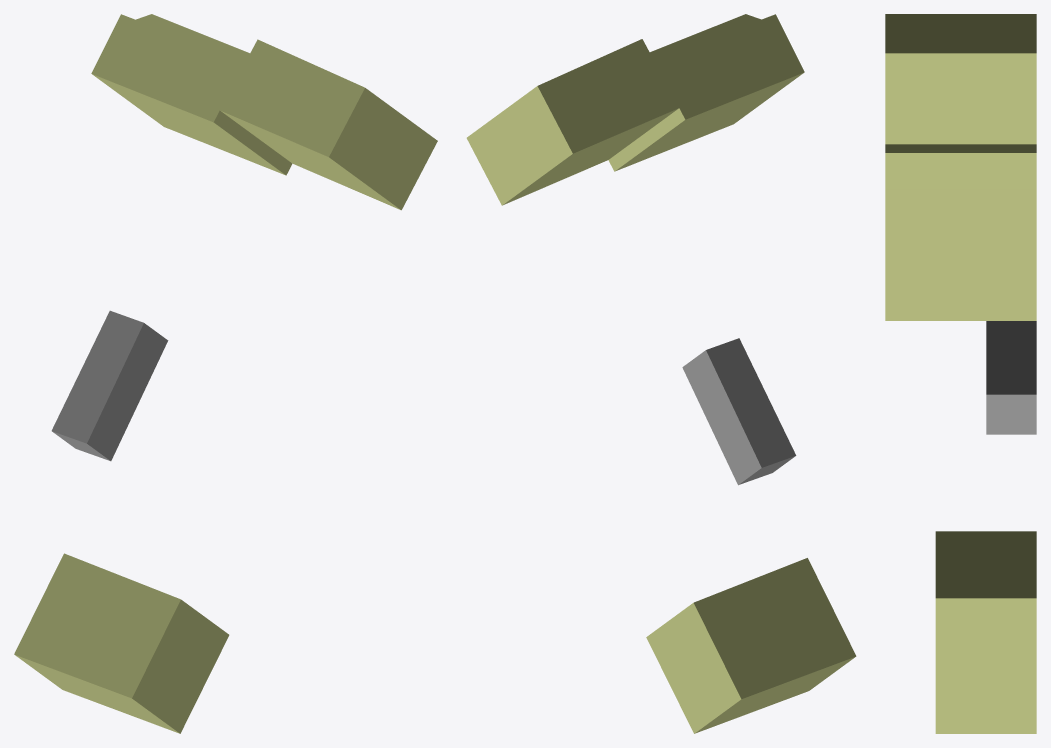
The picture shows the model from 3 angles, left to right: view 1: azimuth 30°, elevation 25°; view 2: azimuth 150°, elevation 25°; view 3: azimuth 270°, elevation 25°; orthographic projection. The views are drawn at different scales.
Parts seen in each view (by area): view 1: 0_1_0_0_2_1_3_0_0; view 2: 0_1_0_0_2_1_3_0_0; view 3: 0_1_0_0_2_1_3_0_0.
Part boxes in pixels (x1,y1,x2,y2): 0_1_0_0_2_1_3_0_0: [14, 14, 437, 733]; 0_1_0_0_2_1_3_0_0: [466, 14, 856, 733]; 0_1_0_0_2_1_3_0_0: [885, 14, 1036, 733].
Bounding box in the file's own units: 25.09 × 46.89 × 9.
